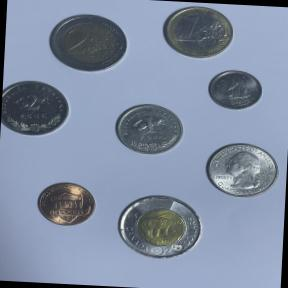1 Euro: (157, 1, 240, 62)
2 Euro: (43, 10, 134, 76)
Canda-10cent-: (205, 66, 266, 112)
Canda-2Dollar-: (112, 191, 208, 264)
Croatia-2Kune-: (0, 77, 76, 140)
US-1cent-: (33, 178, 101, 228)
US-25cent-: (201, 138, 286, 200)
